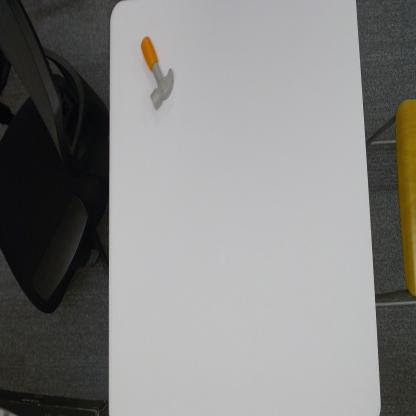Hammer: (139, 34, 175, 112)
